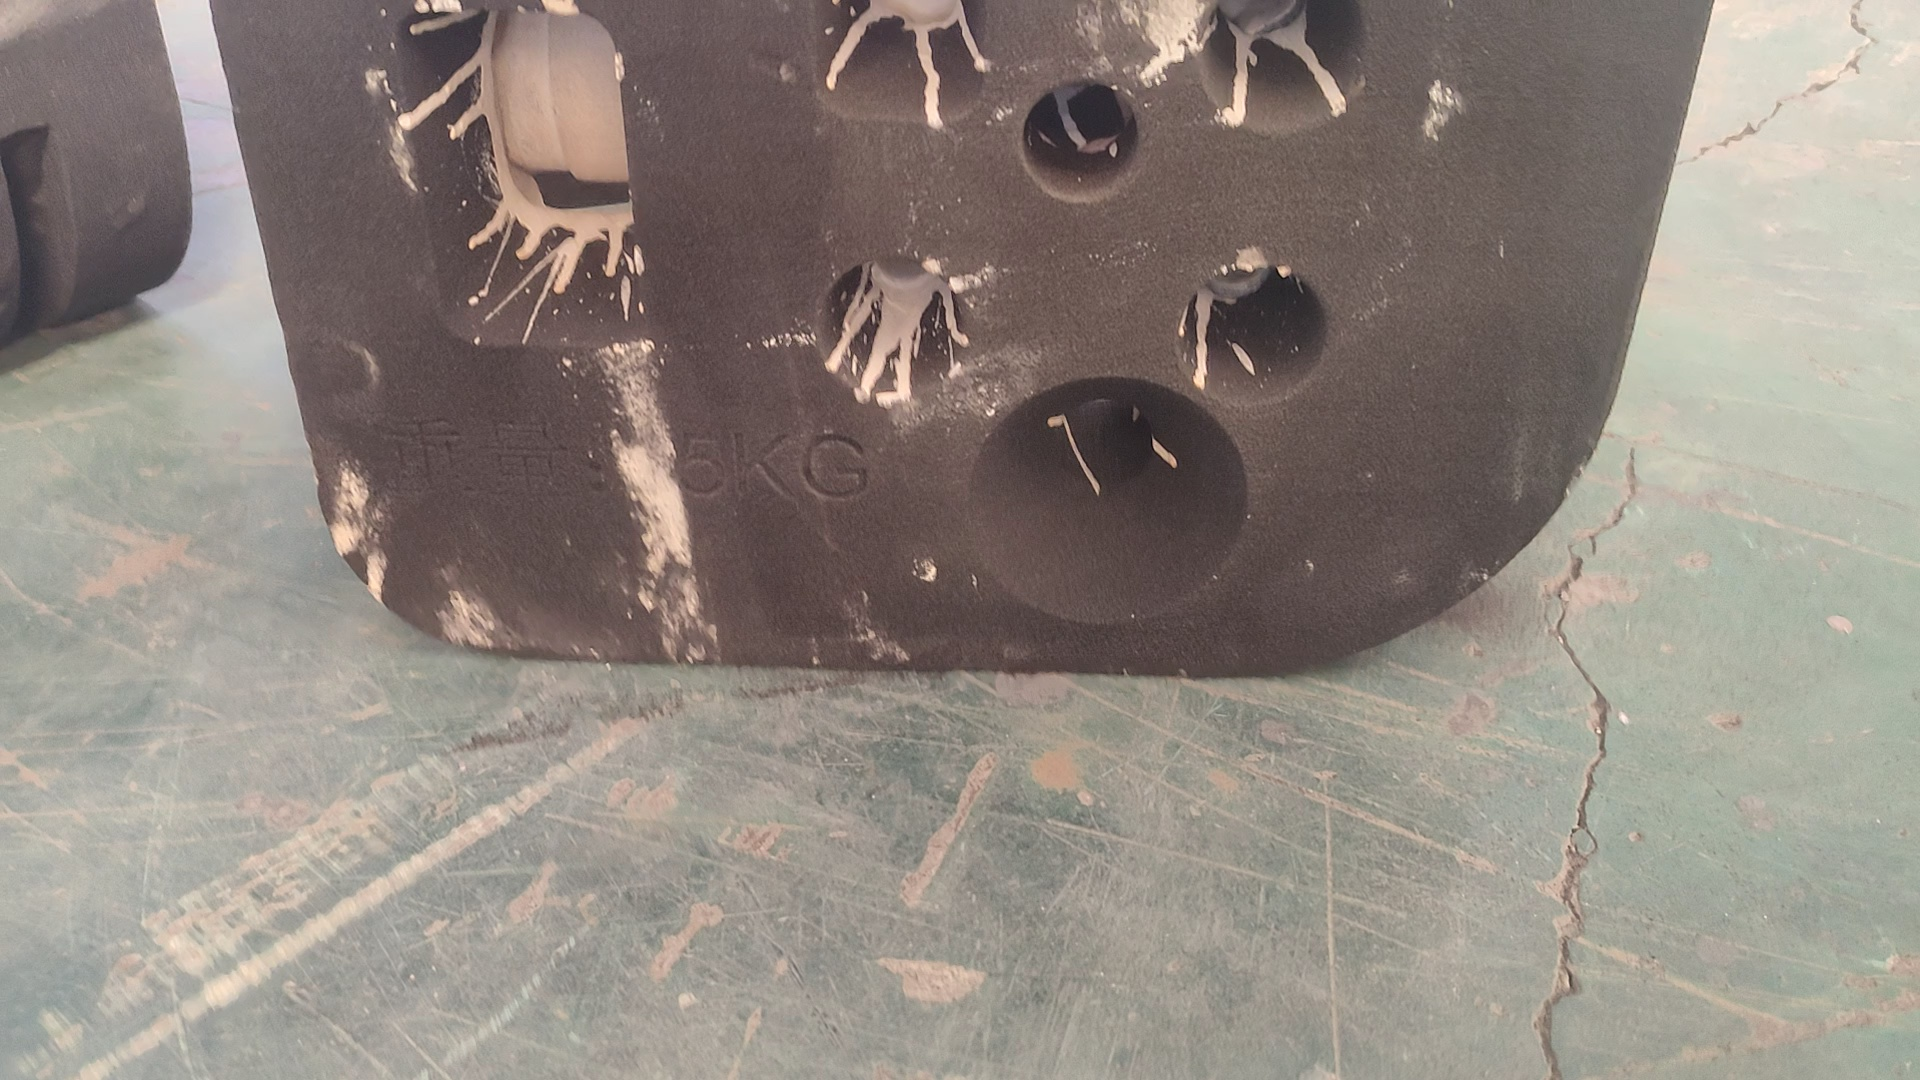pouring hole: (965, 375, 1249, 628)
